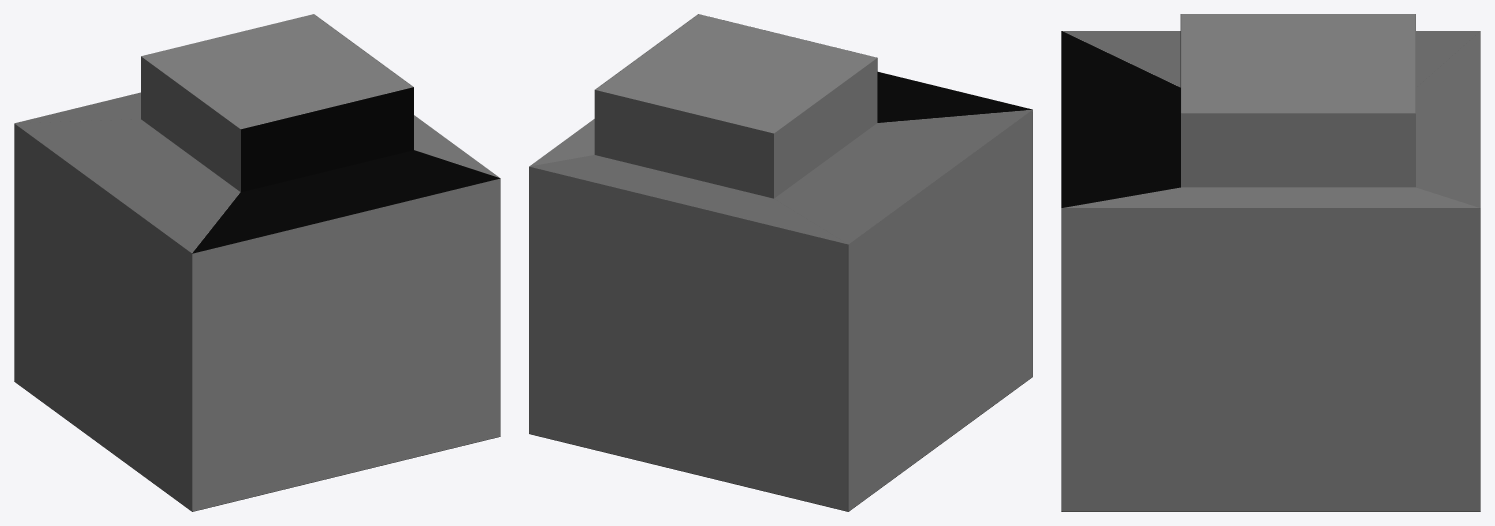
3 renders of one model, left to right at view 1: azimuth 30°, elevation 25°; view 2: azimuth 150°, elevation 25°; view 3: azimuth 270°, elevation 25°, orthographic. The views are drawn at different scales.
Visible parts, largest first — view 1: Box002; view 2: Box002; view 3: Box002.
Boxes of the visible parts, x1,y1,x2,y2 form: Box002: [14, 14, 500, 511]; Box002: [529, 14, 1032, 511]; Box002: [1061, 14, 1480, 511].
Bounding box in the file's own units: 25 × 24.87 × 25.
1 material, 1 textured.
